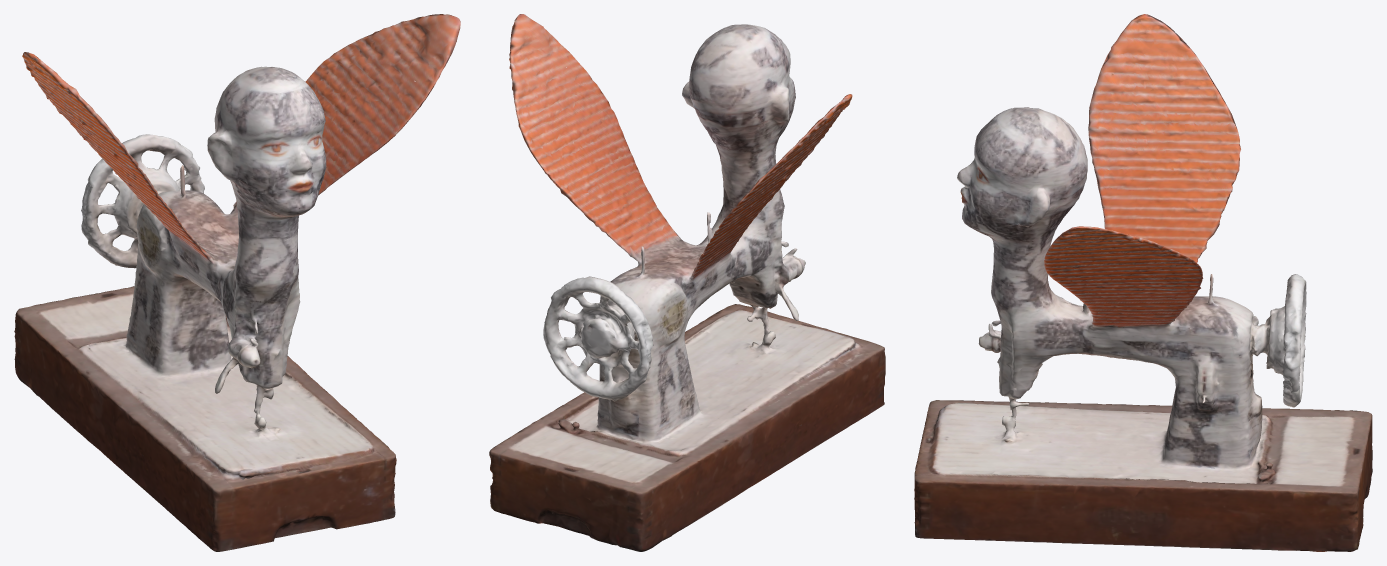
File: yusuf-untitled-sewing-machine.glb
The picture shows the model from 3 angles, left to right: view 1: azimuth 30°, elevation 25°; view 2: azimuth 150°, elevation 25°; view 3: azimuth 270°, elevation 25°; orthographic projection. The views are drawn at different scales.
Parts seen in each view (by area): view 1: SC_TAILOR_001; view 2: SC_TAILOR_001; view 3: SC_TAILOR_001.
Part boxes in pixels (x1,y1,x2,y2): SC_TAILOR_001: [14, 14, 460, 551]; SC_TAILOR_001: [489, 14, 885, 551]; SC_TAILOR_001: [914, 14, 1372, 551].
Size of the model in its own units: 0.4743 by 0.5 by 0.5054.
1 material, 1 textured.
